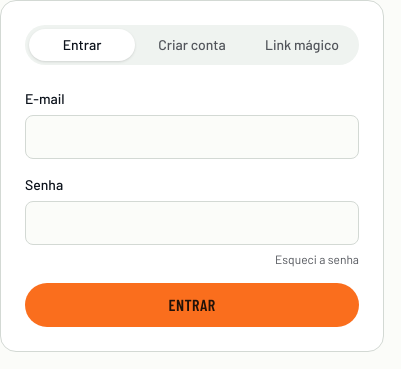
Test: AuthForm › na aba Link mágico esconde o campo de senha
What coordinates should you click on to do the following:
click the tab "Link mágico"
I would click on:
 (302, 45)
Its box is x1=249 y1=29 x2=355 y2=61.
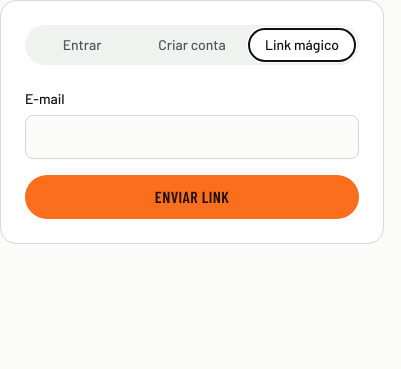
Check: the field labelled "E-mail" is shown, box x1=25 y1=115 x2=359 y2=159
Check: the label labelled "Senha" is gone
